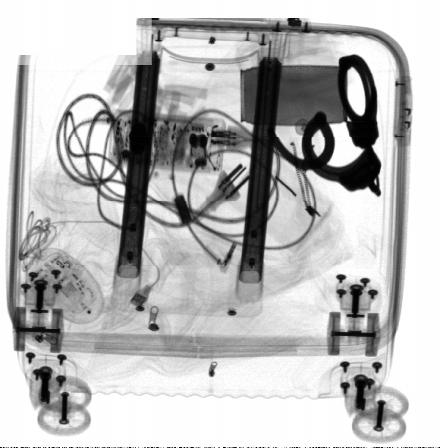HandCuffs: (266, 54, 383, 197)
